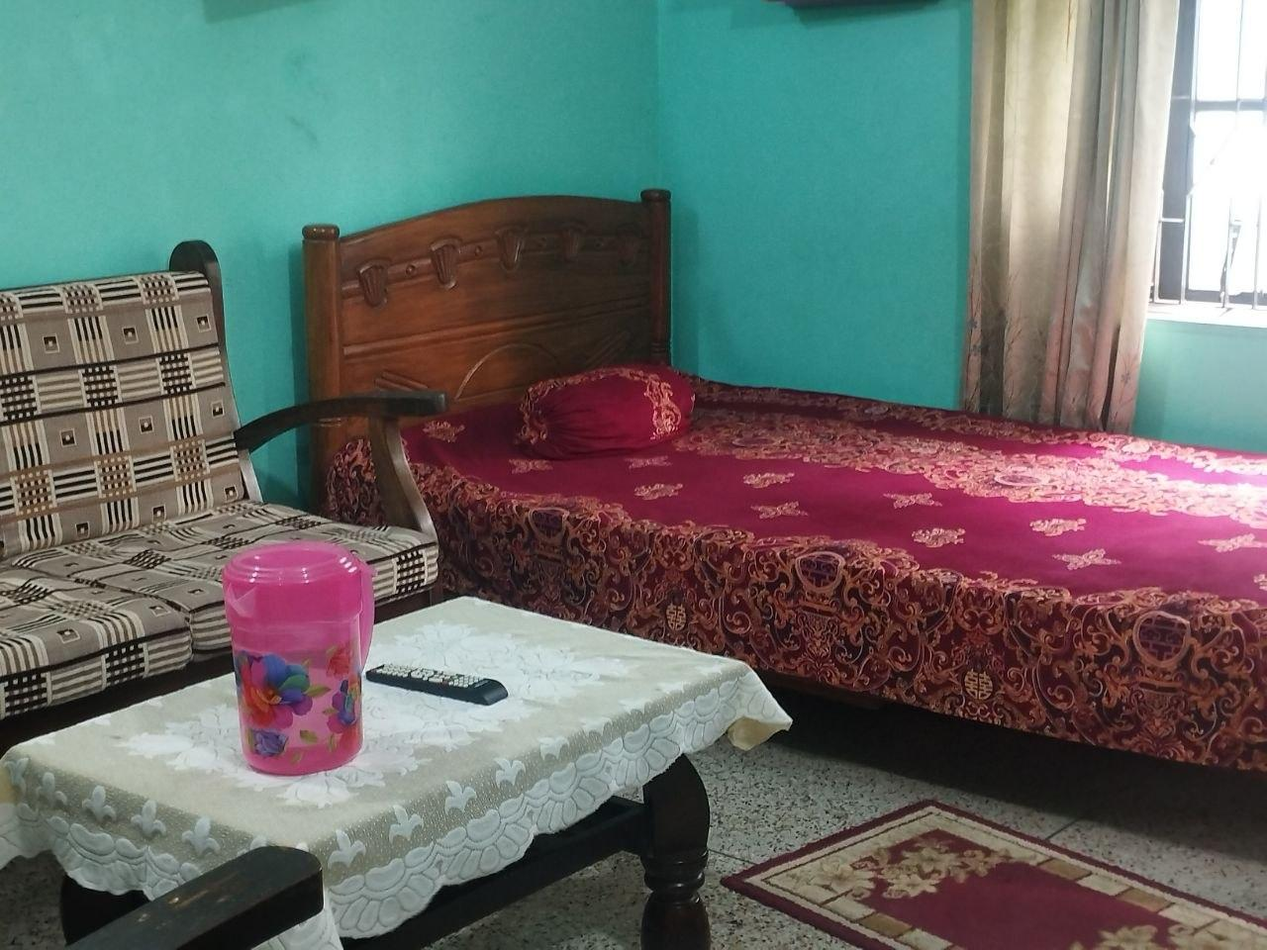Floor Mat: (720, 791, 1267, 950)
Jug: (208, 535, 391, 775)
Pillow: (502, 355, 710, 454)
Remote: (353, 658, 514, 708)
Table: (0, 599, 779, 950)
Window: (1144, 6, 1267, 327)
